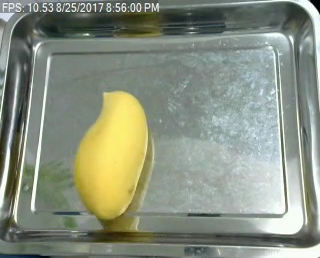Mango: (69, 89, 151, 226)
